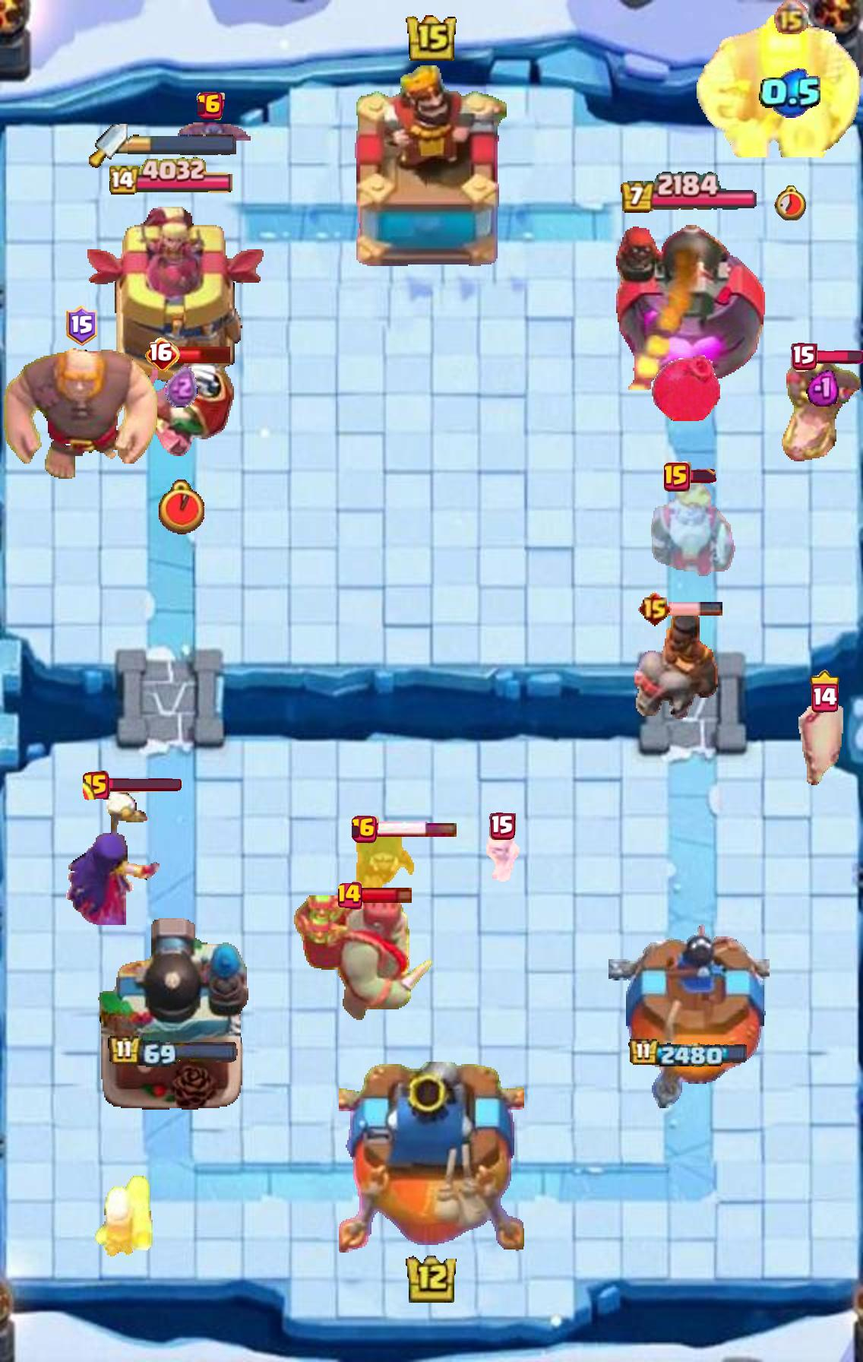bar: (375, 821, 457, 838), (176, 344, 232, 364), (359, 885, 413, 905), (106, 779, 182, 793), (669, 601, 723, 616), (814, 350, 863, 364), (688, 469, 716, 484)
bar-level: (810, 670, 840, 713), (65, 305, 97, 345), (637, 591, 672, 627), (145, 337, 180, 371), (664, 461, 692, 492), (83, 771, 110, 801), (197, 92, 225, 120), (351, 816, 379, 844), (790, 343, 817, 372), (490, 812, 516, 841), (337, 881, 363, 910)
